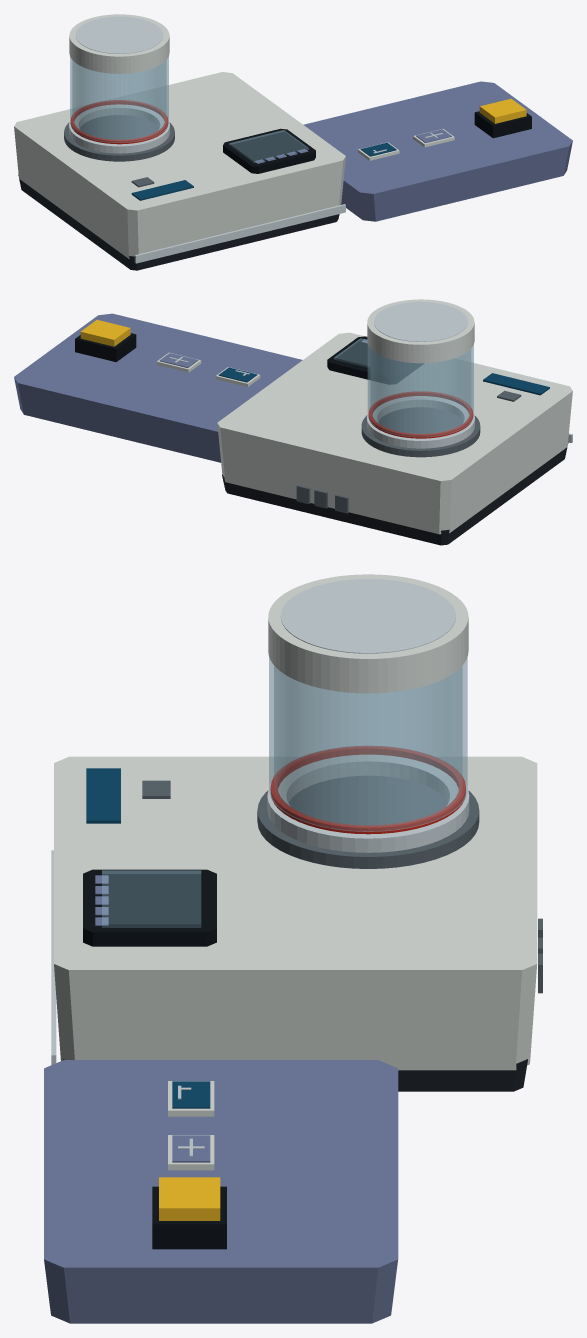
Rendered from pelco-easiglow-91000.glb.
3 views of the same model, one above another, from view 1: azimuth 30°, elevation 25°; view 2: azimuth 150°, elevation 25°; view 3: azimuth 270°, elevation 25° (orthographic). The views are drawn at different scales.
Visible parts, largest first — view 1: cabinet, desk, fixed_bell, glass_bell, inactive_panel, review_key, card_B, card_A; view 2: cabinet, desk, fixed_bell, glass_bell, inactive_panel, review_key, card_B, card_A; view 3: cabinet, desk, fixed_bell, glass_bell, inactive_panel, review_key, card_A, card_B.
Boxes of the visible parts, box(x1,y1,x2,y2) form: cabinet: box(14, 72, 345, 270); desk: box(303, 81, 572, 221); fixed_bell: box(64, 14, 174, 161); glass_bell: box(70, 57, 168, 142); inactive_panel: box(131, 128, 315, 200); review_key: box(474, 98, 531, 138); card_B: box(413, 129, 454, 147); card_A: box(358, 142, 399, 160); cabinet: box(217, 332, 572, 545); desk: box(14, 313, 302, 462); fixed_bell: box(361, 299, 480, 457); glass_bell: box(367, 344, 473, 437); inactive_panel: box(327, 336, 549, 401); review_key: box(75, 320, 136, 362); card_B: box(156, 352, 201, 372); card_A: box(215, 367, 260, 386); cabinet: box(51, 756, 542, 1091); desk: box(44, 1060, 398, 1323); fixed_bell: box(257, 574, 479, 868); glass_bell: box(269, 657, 467, 831); inactive_panel: box(83, 768, 216, 946); review_key: box(152, 1177, 226, 1249); card_A: box(168, 1081, 214, 1116); card_B: box(168, 1135, 214, 1170).
Bounding box in the file's own units: 0.62 × 0.23 × 0.3015.
